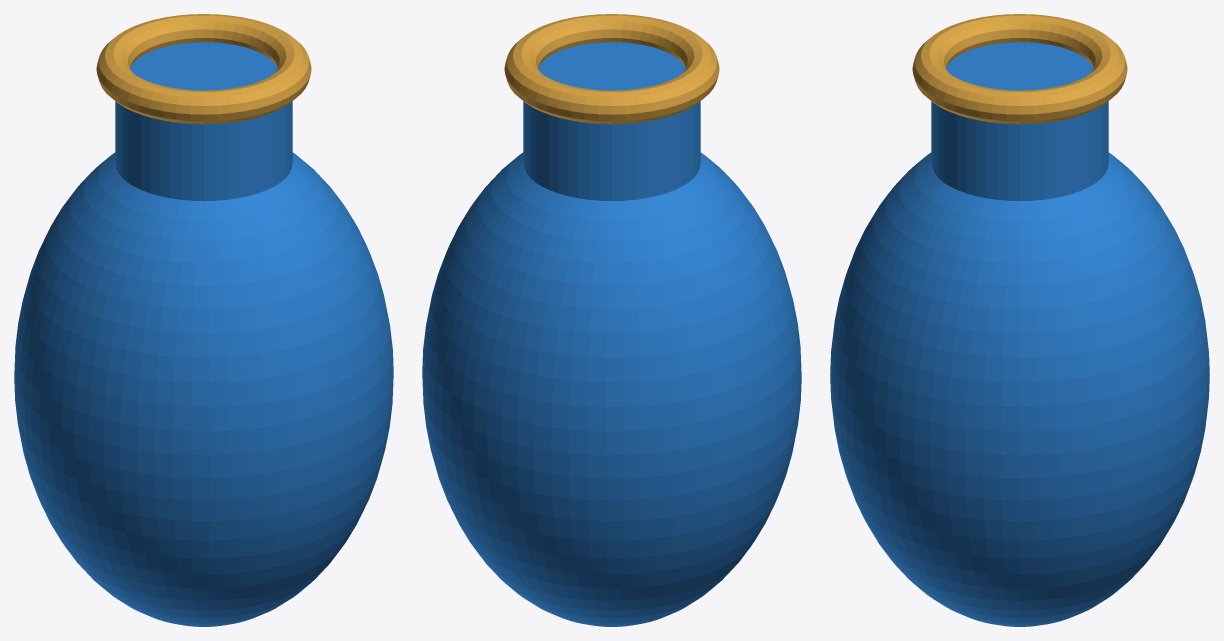
The model's file is vase-ebreche.glb.
3 views of the same model, side by side, from view 1: azimuth 30°, elevation 25°; view 2: azimuth 150°, elevation 25°; view 3: azimuth 270°, elevation 25° (orthographic).
Visible parts, largest first — view 1: Sphere, Col, Bord; view 2: Sphere, Col, Bord; view 3: Sphere, Col, Bord.
Part boxes in pixels (x1=…): Sphere: x1=14, y1=152, x2=393, y2=626; Col: x1=115, y1=42, x2=292, y2=201; Bord: x1=96, y1=14, x2=311, y2=124; Sphere: x1=422, y1=152, x2=801, y2=626; Col: x1=523, y1=42, x2=700, y2=201; Bord: x1=504, y1=14, x2=719, y2=124; Sphere: x1=830, y1=152, x2=1209, y2=626; Col: x1=931, y1=42, x2=1108, y2=200; Bord: x1=912, y1=14, x2=1127, y2=124.
Size of the model in its own units: 1.8 by 2.93 by 1.8.
